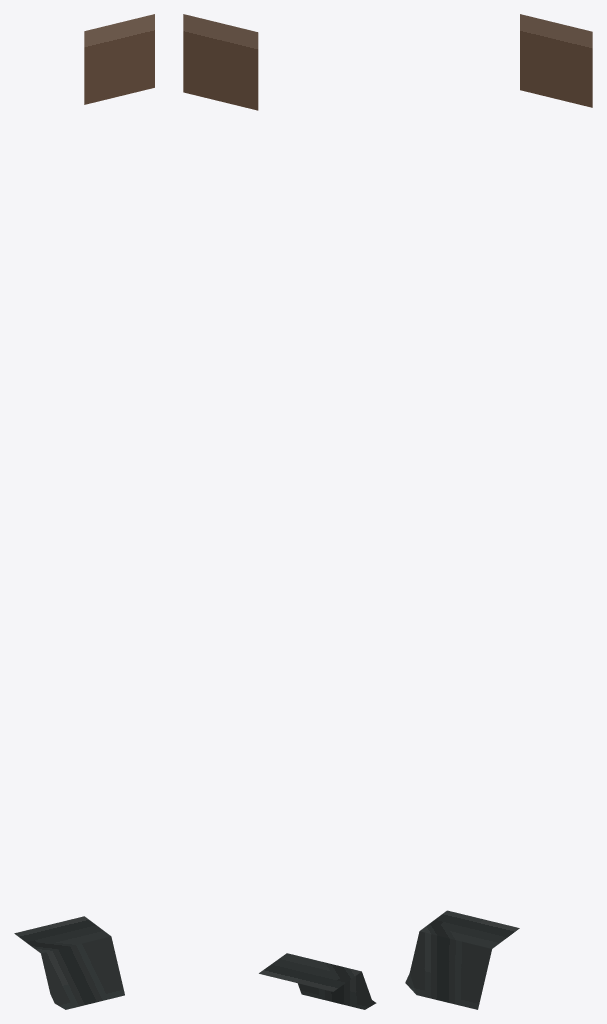
3 renders of one model, left to right at view 1: azimuth 30°, elevation 25°; view 2: azimuth 150°, elevation 25°; view 3: azimuth 330°, elevation 25°, orthographic. The views are drawn at different scales.
Bounding box in the file's own units: 1 × 6.34 × 0.5.
2 materials, 2 textured.
